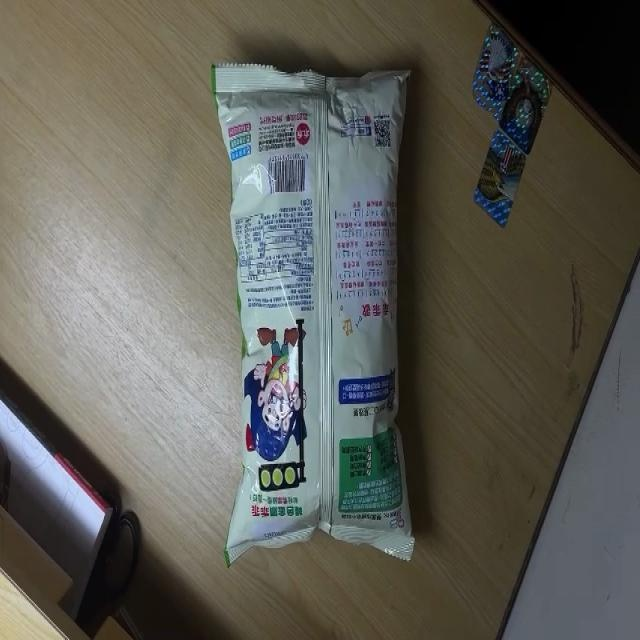Good-Luck: (207, 57, 418, 564)
